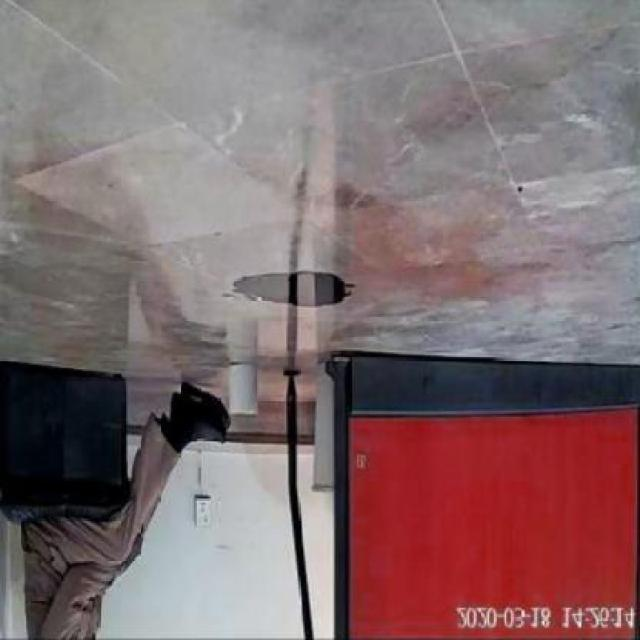spillage: (233, 269, 355, 308)
